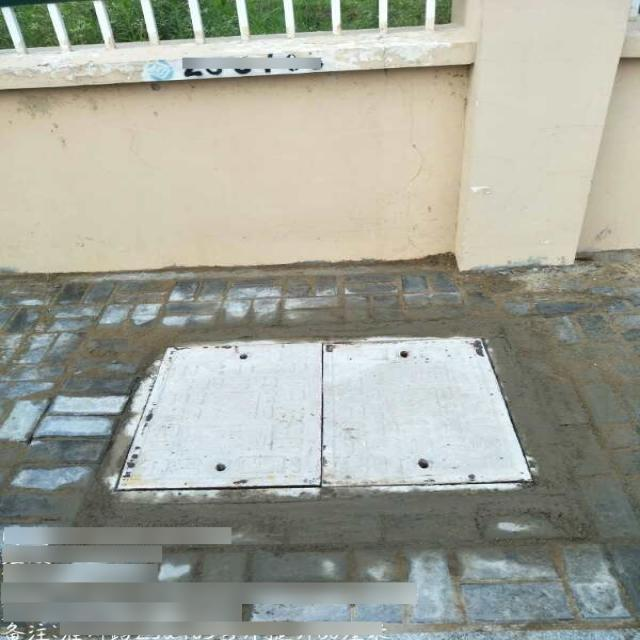Good: (99, 335, 537, 496)
